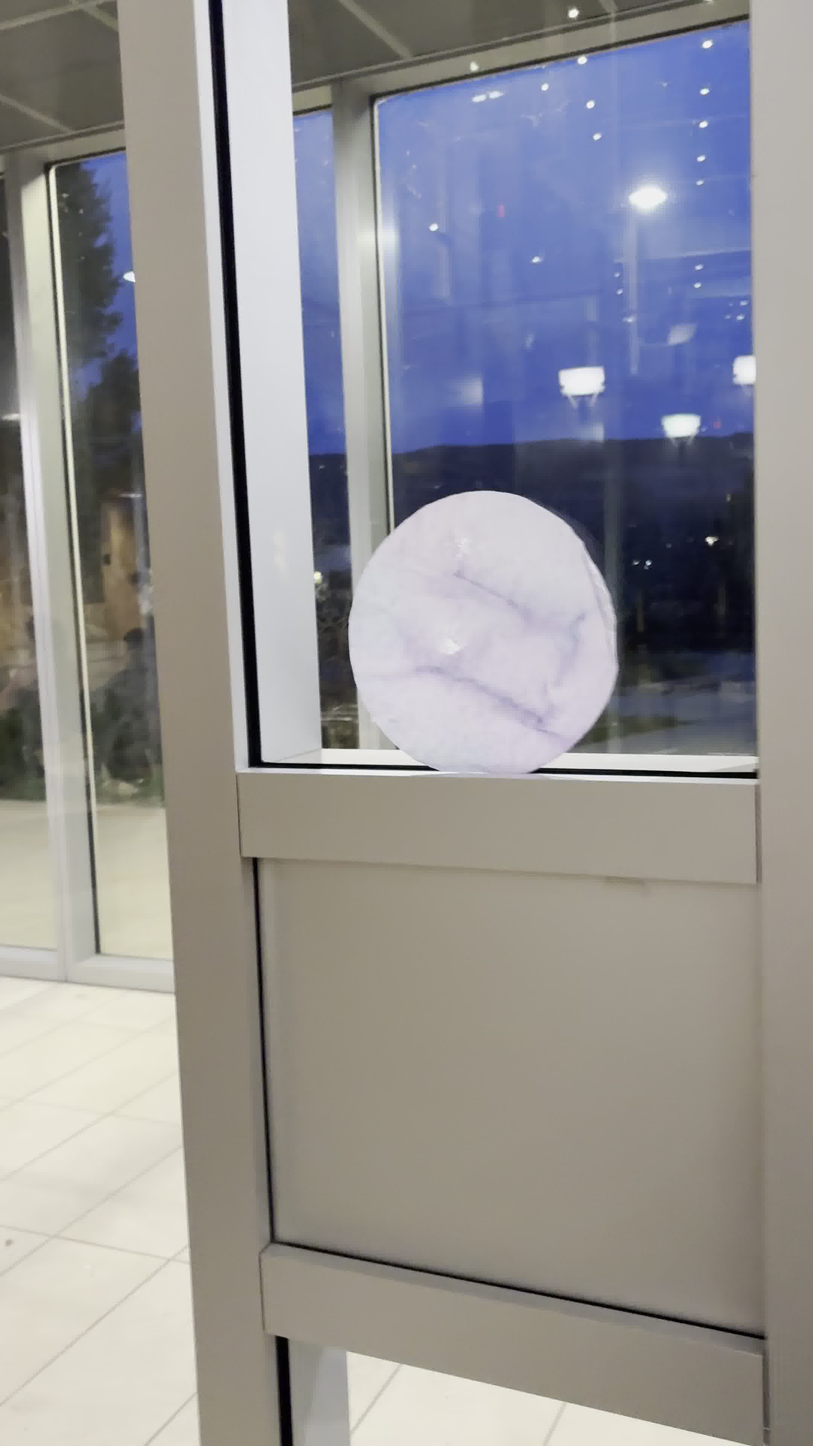Target: (348, 490, 620, 775)
